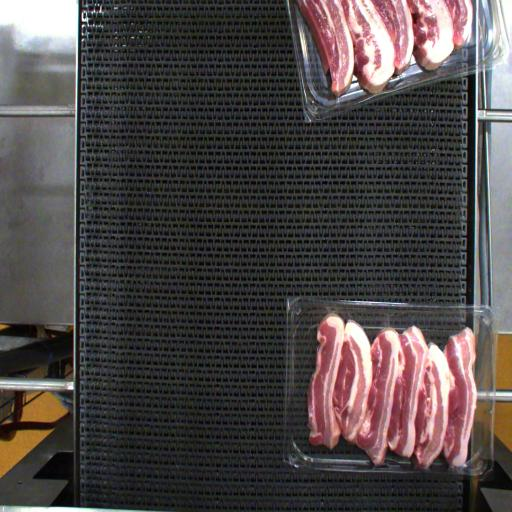packaging-error: (408, 453, 435, 478), (321, 298, 341, 319)
